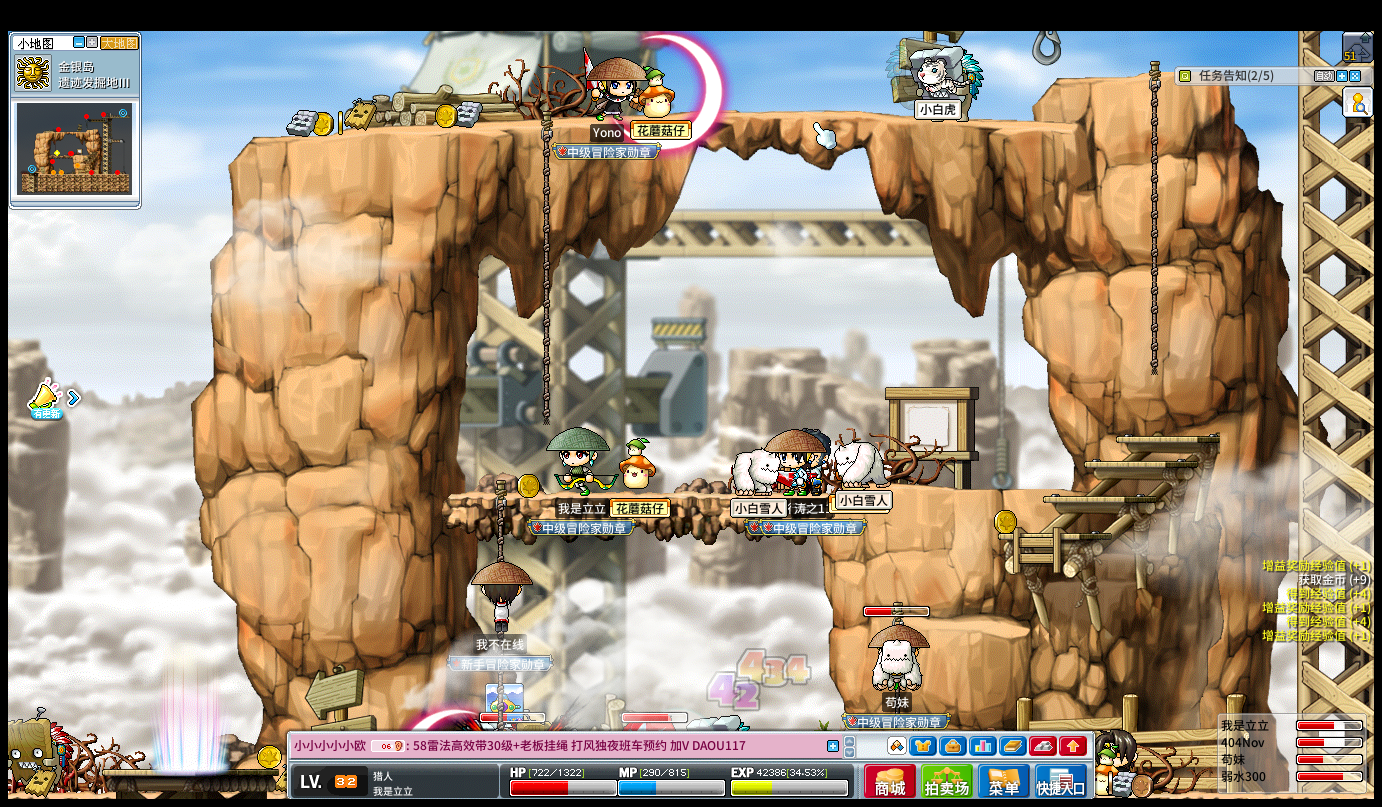floor: (247, 107, 1082, 142), (443, 489, 816, 502), (927, 615, 1031, 637), (919, 484, 1083, 495), (1054, 68, 1174, 82), (1114, 435, 1221, 447), (992, 531, 1111, 541), (1080, 459, 1195, 468), (1044, 494, 1157, 502)
monster: (910, 42, 984, 122), (4, 712, 72, 793)
rope: (1147, 60, 1163, 375), (541, 110, 551, 427), (493, 480, 506, 561)
